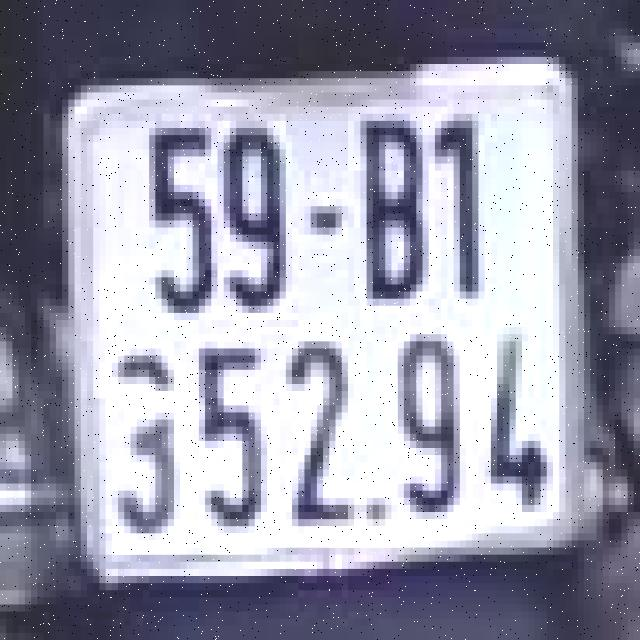1: (432, 110, 494, 302)
2: (289, 334, 357, 534)
3: (109, 345, 183, 544)
4: (485, 327, 553, 512)
5: (143, 118, 217, 324), (193, 342, 267, 534)
9: (388, 327, 469, 519), (221, 125, 295, 316)
B: (357, 114, 432, 313)
